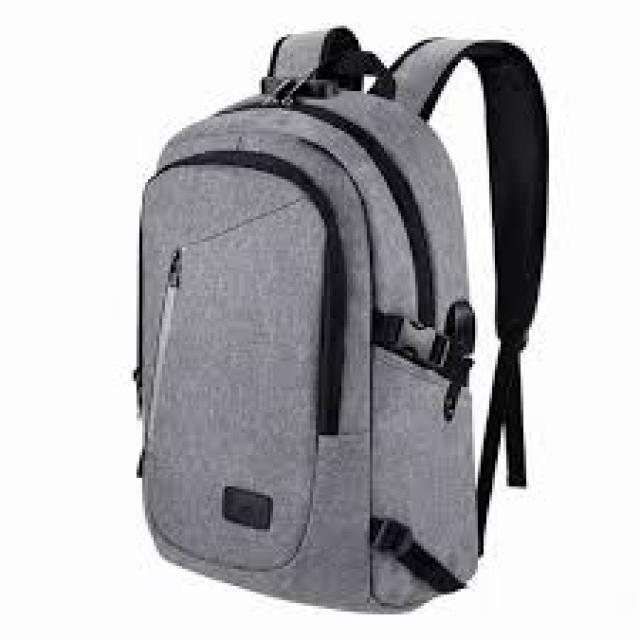backpack: (132, 24, 550, 615)
